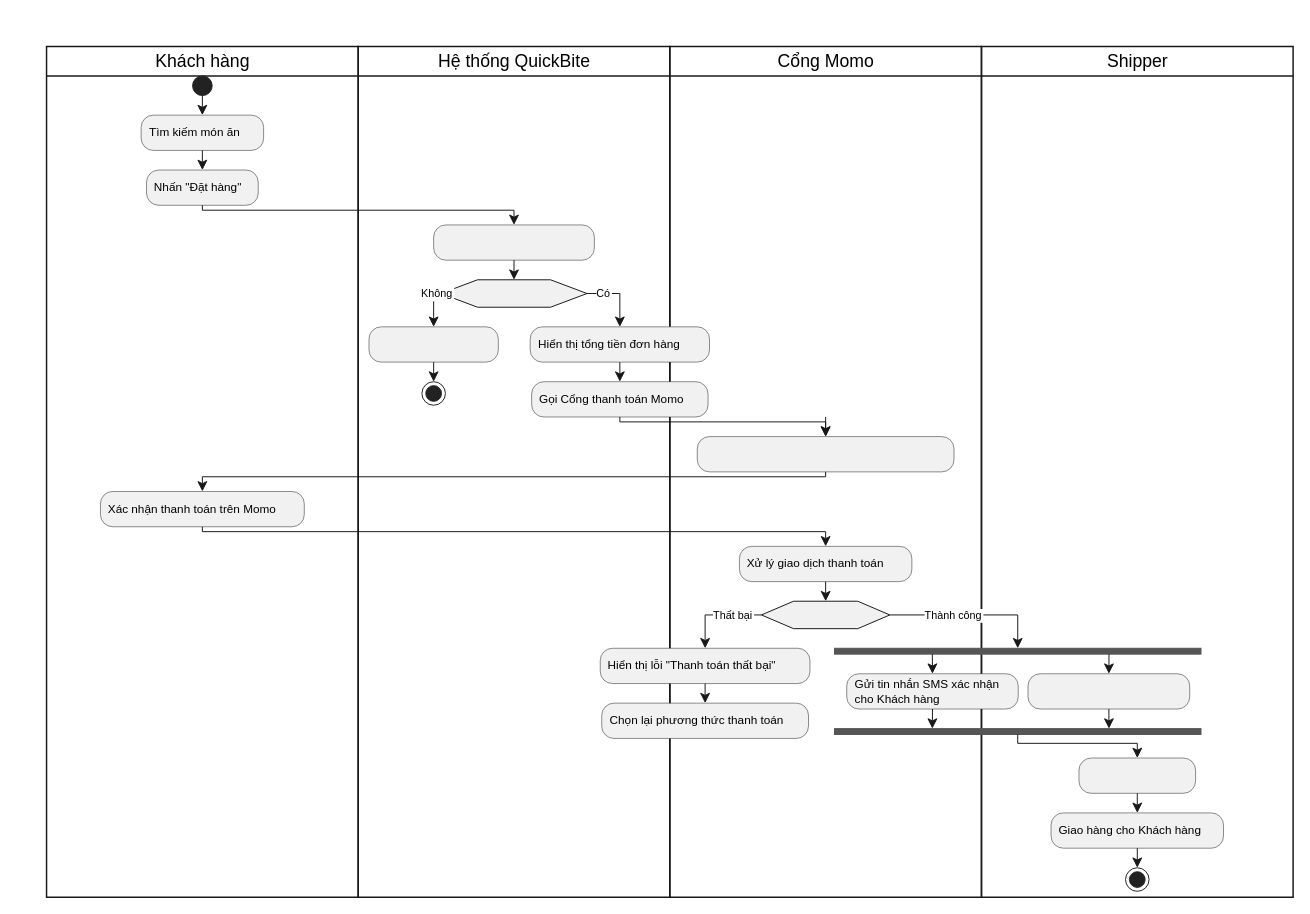
This 1310x914 diagram has some shape labels left out. Here are the shapes that lost their labels. From the top down, the box of each, then its label:
(433, 224, 594, 260): Kiểm tra tồn kho món ăn
(440, 279, 587, 307): Còn món ăn trong kho?
(368, 326, 498, 362): Hiển thị thông báo "Món ăn đã hết"
(697, 436, 954, 472): Yêu cầu Khách hàng xác nhận thanh toán
(760, 600, 890, 629): Kết quả thanh toán?
(1027, 673, 1190, 709): Thông báo đơn hàng mới cho Shipper
(1078, 757, 1195, 793): Nhấn "Nhận đơn"
